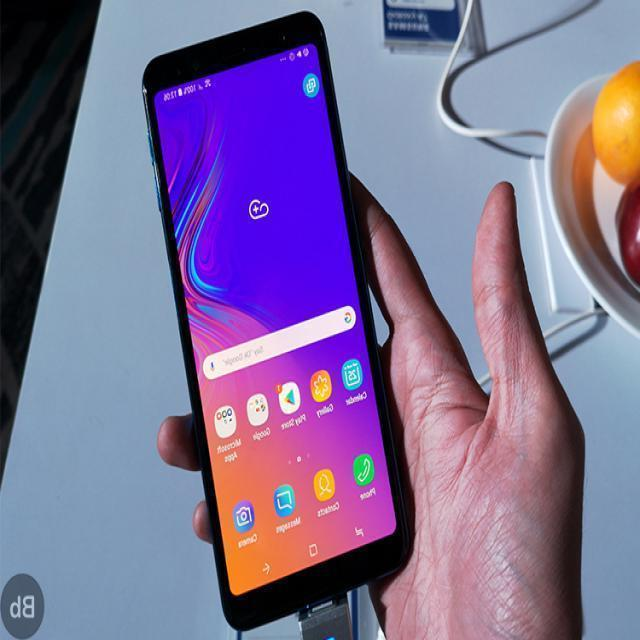mobile: (142, 5, 411, 629)
